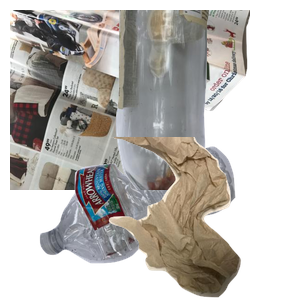glass: (113, 10, 300, 190)
paper: (10, 10, 250, 190)
plastic: (37, 144, 265, 300)
trash: (103, 137, 300, 300)
